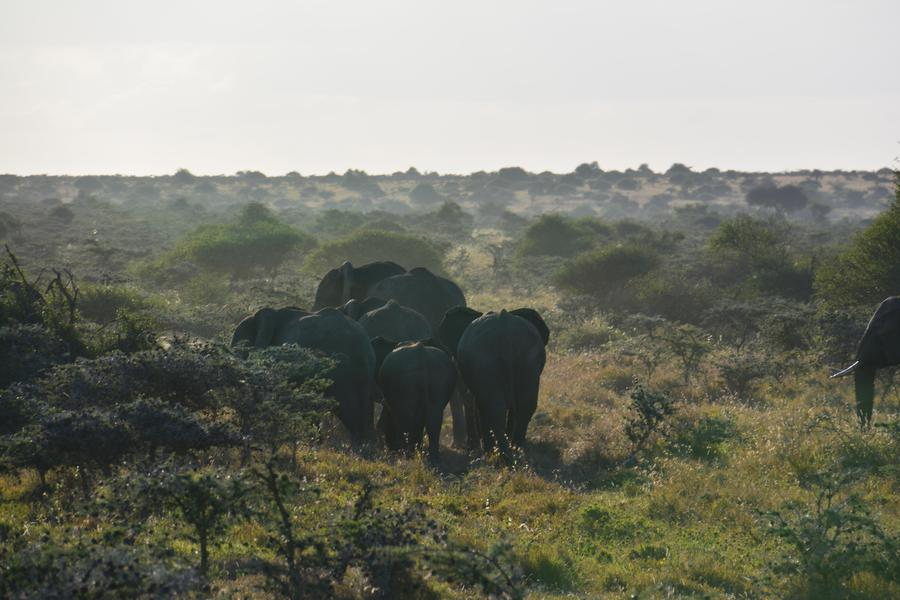elephant: (233, 304, 375, 427), (445, 304, 539, 437), (377, 337, 455, 454), (837, 294, 897, 429)
